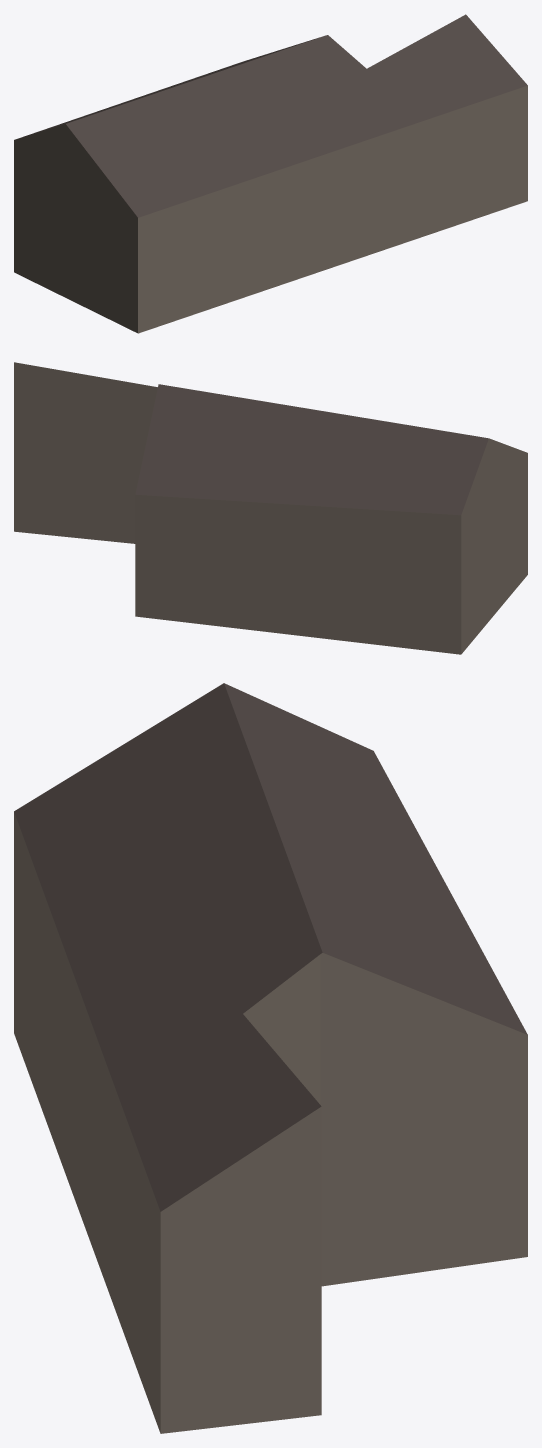
The picture shows the model from 3 angles, top to bottom: view 1: azimuth 30°, elevation 25°; view 2: azimuth 150°, elevation 25°; view 3: azimuth 270°, elevation 25°; orthographic projection. The views are drawn at different scales.
Parts seen in each view (by area): view 1: HP-w1513026737; view 2: HP-w1513026737; view 3: HP-w1513026737.
Boxes of the visible parts, x1,y1,x2,y2 form: HP-w1513026737: (14,14,527,333); HP-w1513026737: (14,362,527,654); HP-w1513026737: (14,683,527,1433).
Size of the model in its own units: 24.88 by 9.02 by 12.6.
